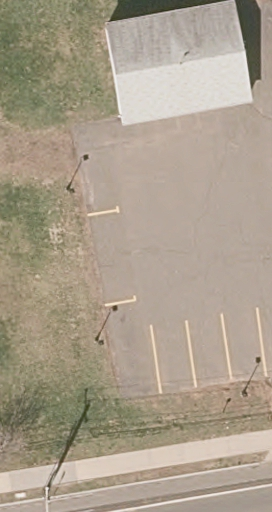DT: (42, 445, 73, 512)
